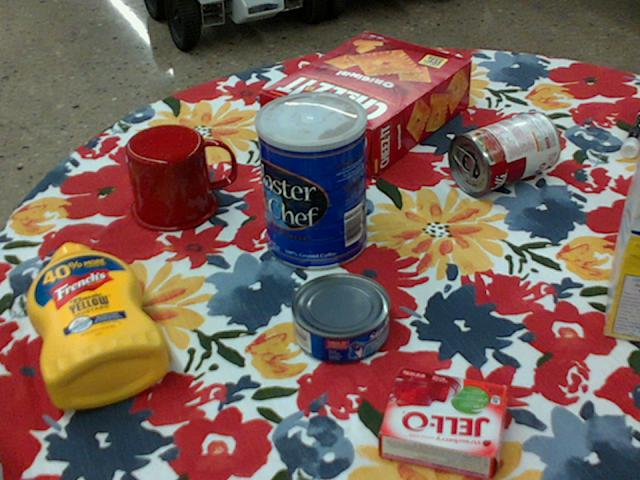cracker_box: (261, 33, 473, 178)
gelatin_box: (380, 369, 513, 479)
large_marker: (620, 112, 639, 156)
master_chef_can: (254, 90, 367, 270)
mug: (125, 123, 235, 232)
mustard_bottle: (27, 242, 169, 408)
sugar_box: (606, 154, 639, 342)
tomato_soup_can: (449, 109, 561, 195)
tuna_fish_can: (291, 274, 391, 364)
